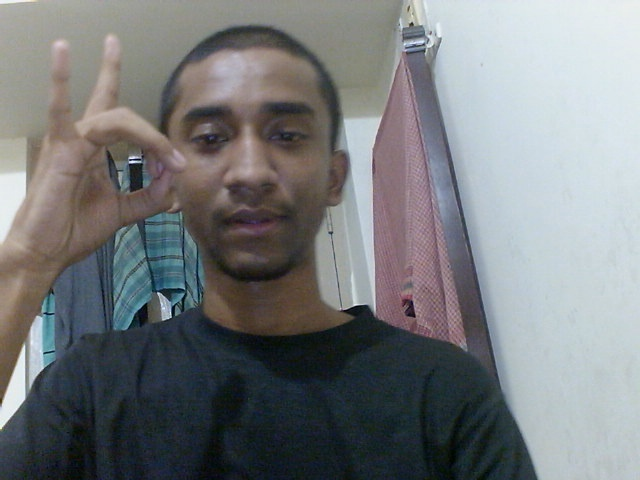hand: (12, 33, 189, 281)
